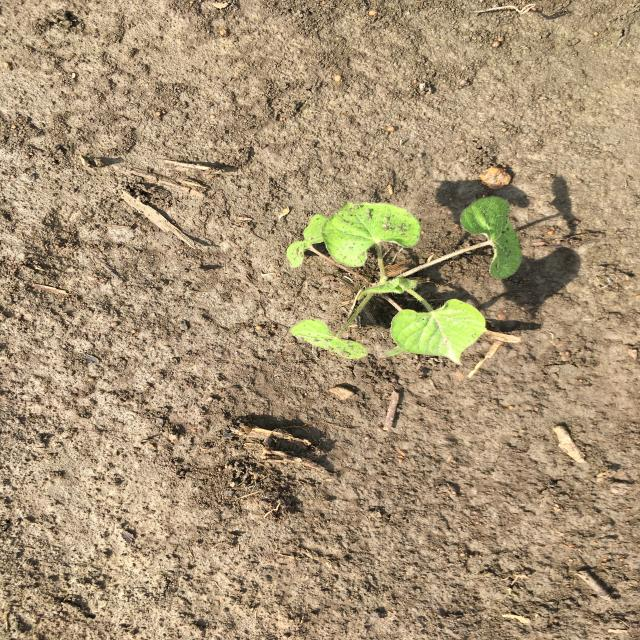MorningGlory: (284, 194, 527, 368)
